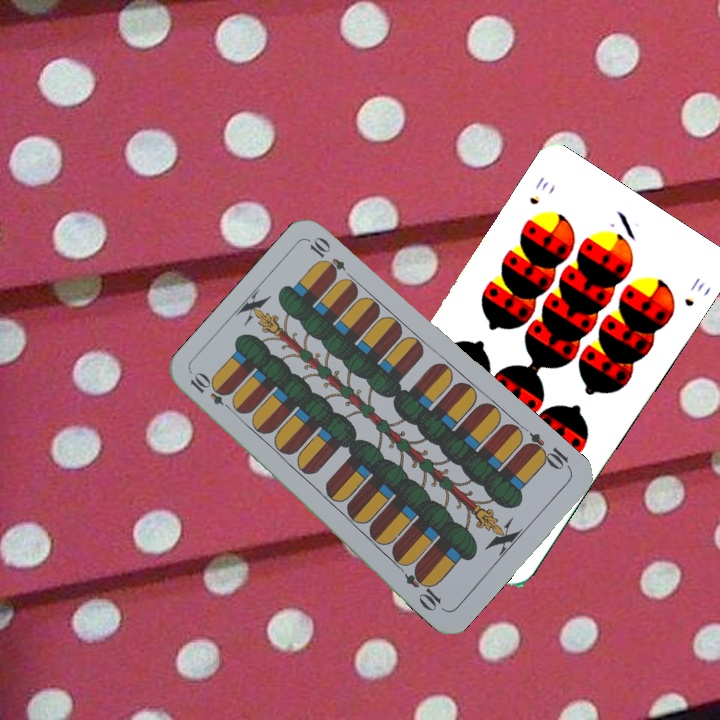E10: (520, 428, 574, 473), (186, 369, 238, 415)
S10: (525, 172, 552, 208)
